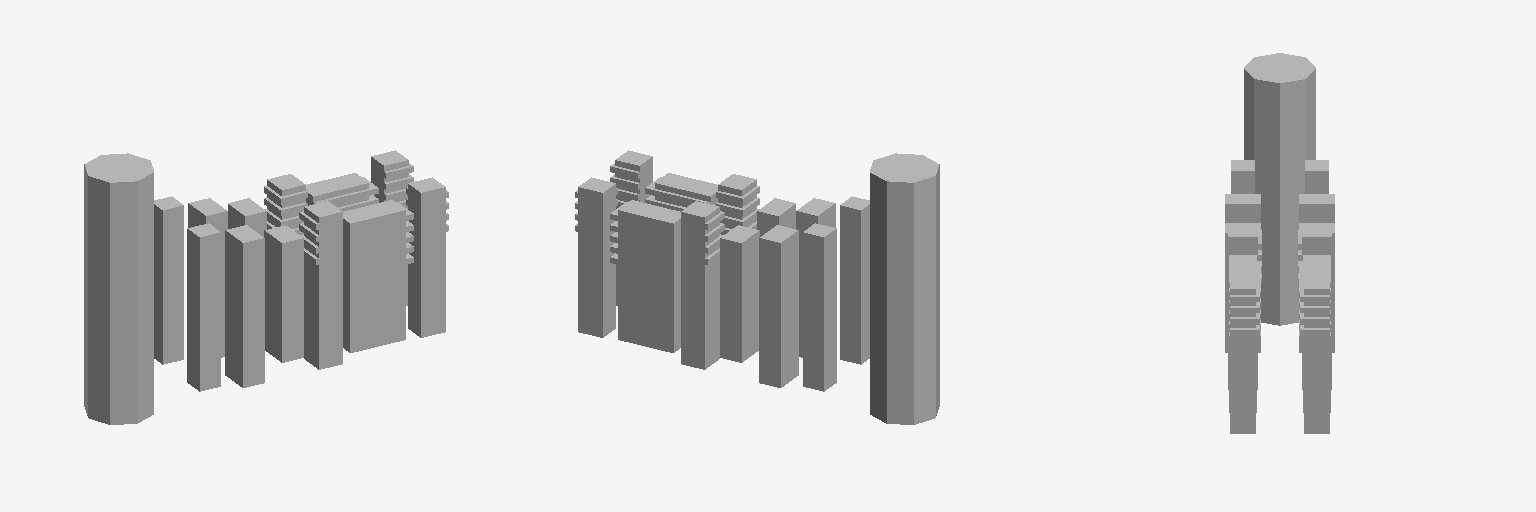
The model's file is BottomlessCitySet.obj.
3 views of the same model, side by side, from view 1: azimuth 30°, elevation 25°; view 2: azimuth 150°, elevation 25°; view 3: azimuth 270°, elevation 25° (orthographic).
Parts seen in each view (by area): view 1: pCylinder1, polySurface12, pCube13, pCube15, pCube12, pCube16, pCube14, pCube8, pCube9, polySurface11, pCube6, pCube11 (+1 smaller); view 2: pCylinder1, polySurface11, pCube9, pCube11, pCube6, pCube8, pCube10, pCube16, pCube13, polySurface12, pCube12, pCube15 (+1 smaller); view 3: pCylinder1, pCube6, pCube12, pCube9, pCube13, pCube15, pCube11, polySurface11, polySurface12, pCube16, pCube8, pCube14 (+1 smaller).
Part boxes in pixels (x1,y1,x2,y2): pCylinder1: (84, 153, 153, 424); polySurface12: (343, 200, 413, 352); pCube13: (299, 201, 342, 369); pCube15: (225, 225, 264, 387); pCube12: (406, 177, 448, 337); pCube16: (187, 223, 220, 391); pCube14: (264, 225, 303, 362); pCube8: (154, 196, 183, 364); pCube9: (264, 174, 307, 234); polySurface11: (306, 173, 378, 211); pCube6: (371, 150, 413, 305); pCube11: (188, 198, 227, 357); pCylinder1: (870, 153, 939, 424); polySurface11: (610, 200, 680, 352); pCube9: (681, 201, 724, 369); pCube11: (759, 225, 798, 387); pCube6: (575, 177, 617, 337); pCube8: (803, 223, 836, 391); pCube10: (720, 225, 759, 362); pCube16: (840, 196, 869, 364); pCube13: (716, 174, 759, 234); polySurface12: (645, 173, 717, 211); pCube12: (610, 150, 652, 305); pCube15: (796, 198, 835, 357); pCylinder1: (1244, 53, 1315, 325); pCube6: (1300, 277, 1329, 433); pCube12: (1230, 277, 1259, 433); pCube9: (1298, 226, 1331, 389); pCube13: (1228, 226, 1261, 389); pCube15: (1225, 194, 1260, 222); pCube11: (1299, 194, 1334, 222); polySurface11: (1299, 255, 1330, 412); polySurface12: (1229, 255, 1260, 412); pCube16: (1231, 160, 1254, 193); pCube8: (1305, 160, 1328, 193); pCube14: (1225, 223, 1260, 352).
Bounding box in the file's own units: 31.53 × 21.75 × 8.89.